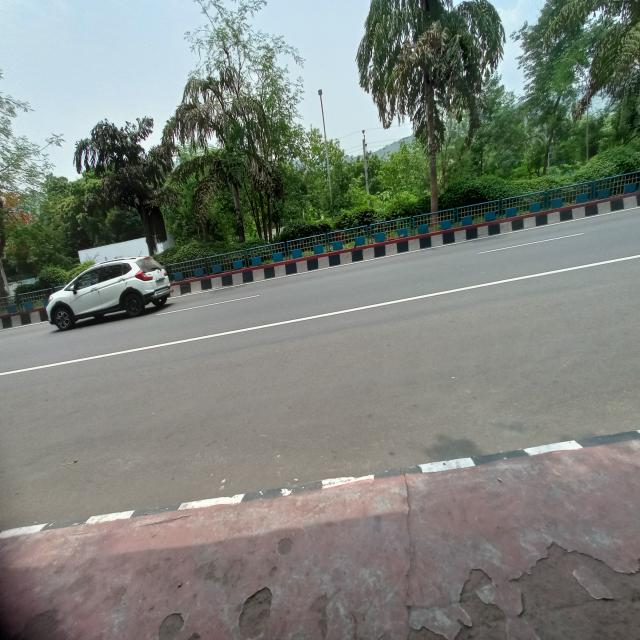car: (32, 252, 180, 328)
